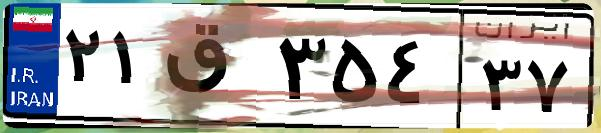1: (110, 28, 158, 98)
2: (57, 26, 110, 100)
3: (270, 28, 330, 110), (475, 38, 525, 113)
4: (385, 28, 445, 110)
5: (330, 28, 385, 110)
7: (525, 38, 570, 115)
ق: (158, 20, 270, 120)
